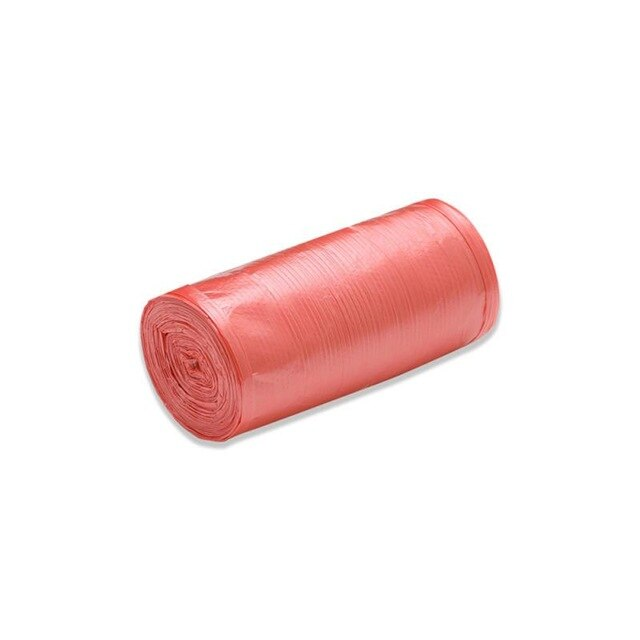plastic_bagwdw: (119, 132, 531, 482)
